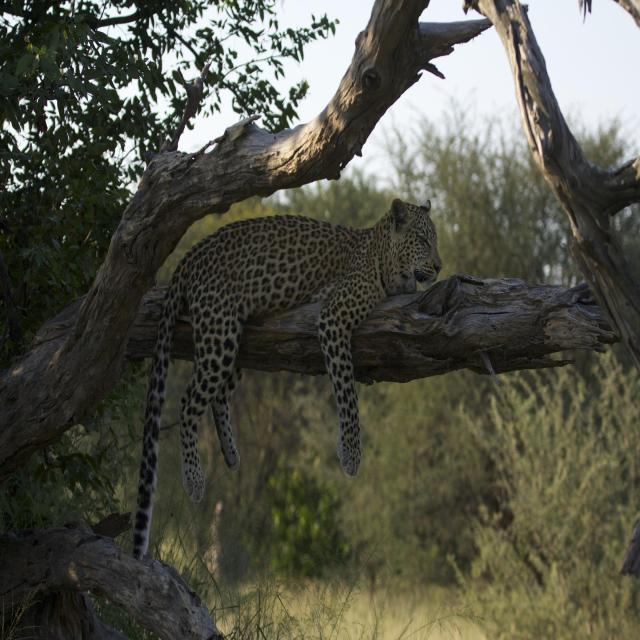Leopard: (119, 197, 456, 562)
